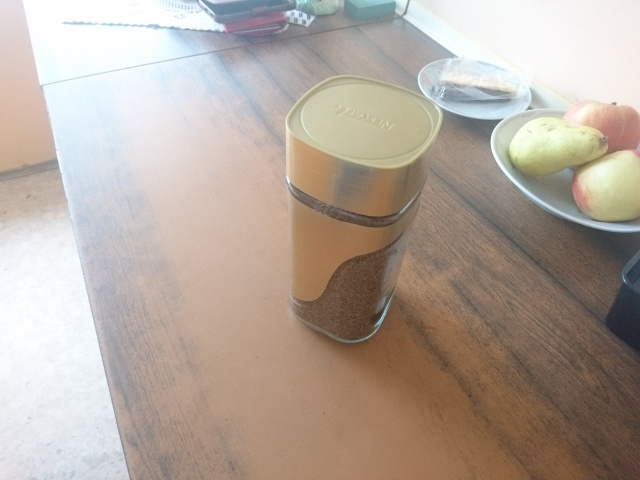Nescafe Gold 225g: (282, 72, 446, 348)
